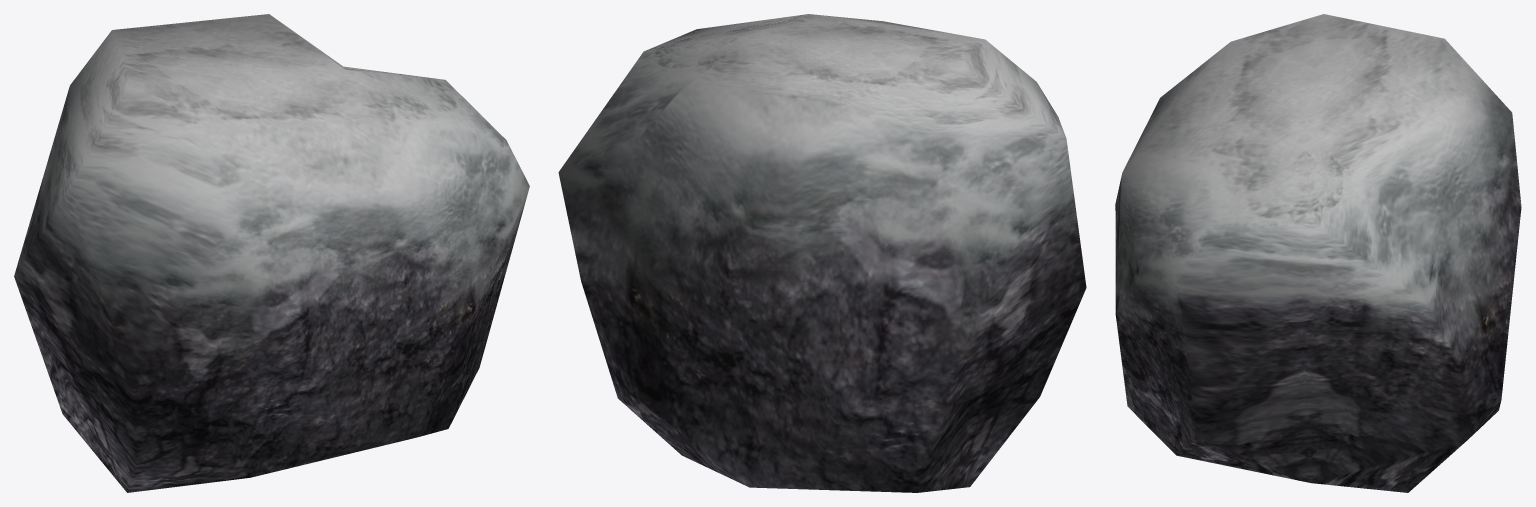
File: snow_d_a08b.fbx
3 renders of one model, left to right at view 1: azimuth 30°, elevation 25°; view 2: azimuth 150°, elevation 25°; view 3: azimuth 270°, elevation 25°, orthographic. The views are drawn at different scales.
Parts seen in each view (by area): view 1: d_a08b; view 2: d_a08b; view 3: d_a08b.
Part boxes in pixels (x1,y1,x2,y2): d_a08b: (14,14,529,492); d_a08b: (558,14,1086,492); d_a08b: (1115,14,1521,492).
Bounding box in the file's own units: 188 × 173 × 165.
